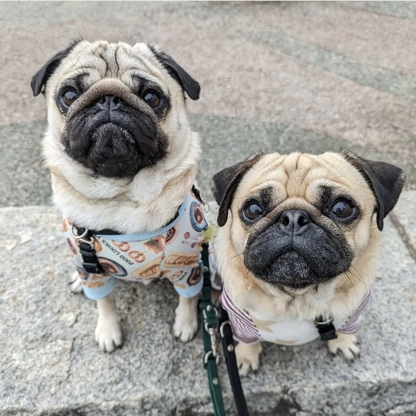Pug: (27, 31, 207, 359), (207, 142, 409, 382)
